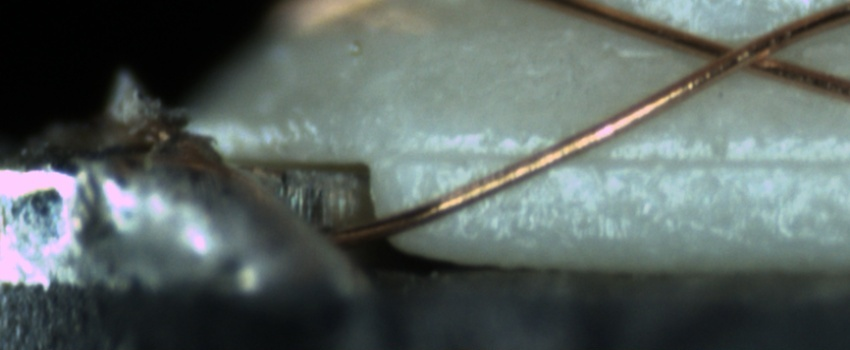CL: (689, 28, 786, 81)
DL: (401, 128, 850, 191)
